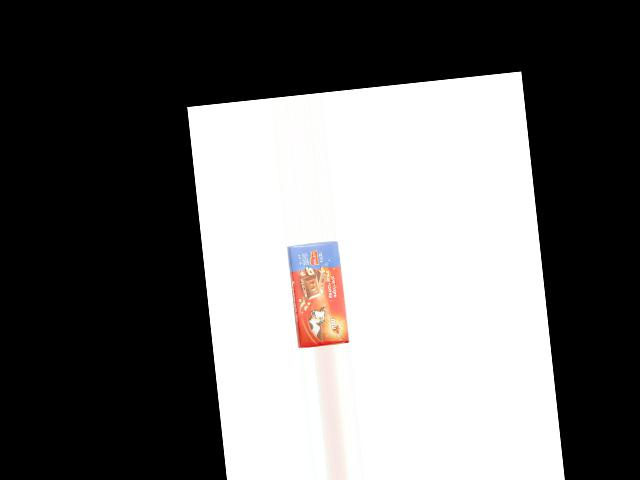chocolate: (282, 242, 348, 348)
